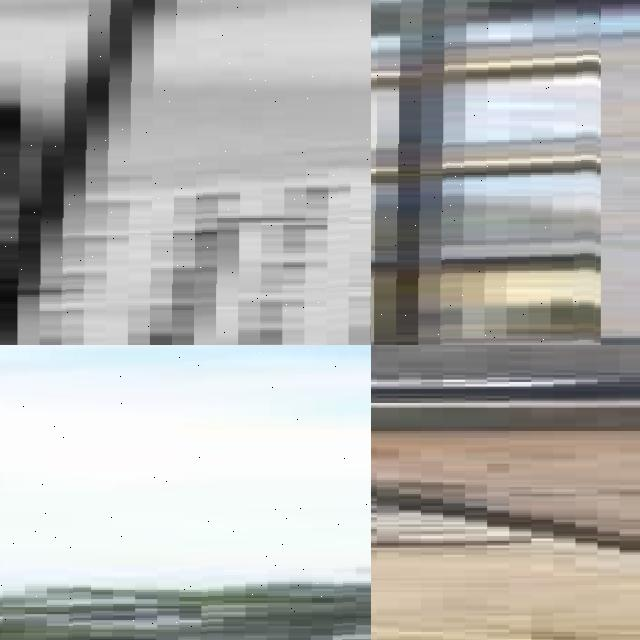street light: (0, 0, 371, 345), (0, 345, 371, 640), (371, 0, 600, 345)
